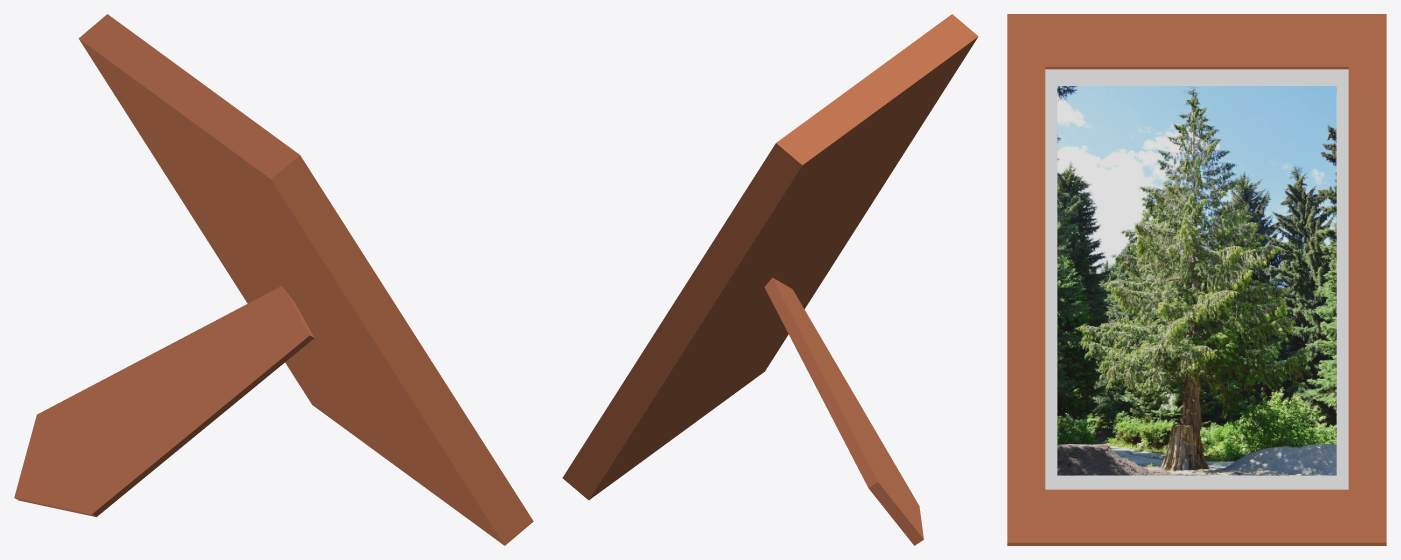
File: picture-frame-3-0.glb
The picture shows the model from 3 angles, left to right: view 1: azimuth 30°, elevation 25°; view 2: azimuth 150°, elevation 25°; view 3: azimuth 270°, elevation 25°; orthographic projection. The views are drawn at different scales.
Visible parts, largest first — view 1: Plane, Plane.001; view 2: Plane, Plane.001; view 3: Plane.
Part boxes in pixels (left/top/right/bottom): Plane: left=78, top=14, right=533, bottom=545; Plane.001: left=14, top=286, right=314, bottom=516; Plane: left=562, top=14, right=978, bottom=500; Plane.001: left=764, top=277, right=923, bottom=545; Plane: left=1007, top=14, right=1386, bottom=545.
Size of the model in its own units: 2.16 by 2.52 by 2.
Materials: 3 (1 with a texture image).
